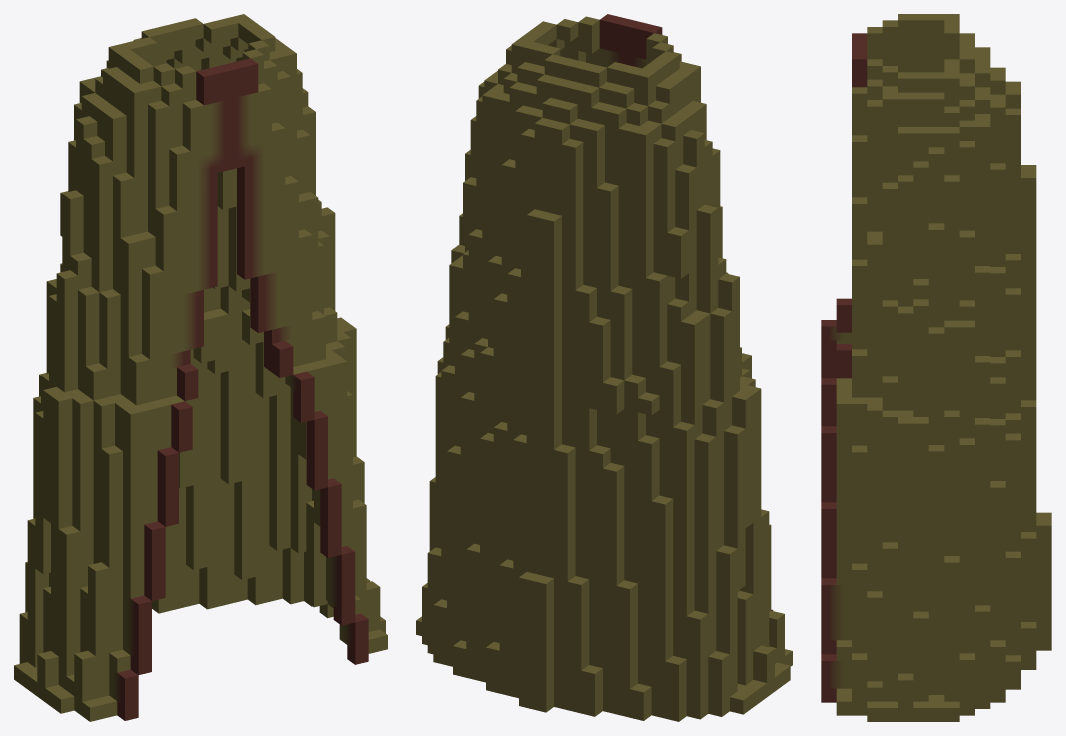
File: NB_TR_F_SkirtFullOuter_00.fbx
3 views of the same model, side by side, from view 1: azimuth 30°, elevation 25°; view 2: azimuth 150°, elevation 25°; view 3: azimuth 270°, elevation 25° (orthographic). The views are drawn at different scales.
Visible parts, largest first — view 1: DressSkirtFull_Outer; view 2: DressSkirtFull_Outer; view 3: DressSkirtFull_Outer.
Part boxes in pixels (box(x1,y1,x2,y2)): DressSkirtFull_Outer: box(14, 14, 387, 721); DressSkirtFull_Outer: box(416, 14, 792, 721); DressSkirtFull_Outer: box(821, 14, 1051, 721).
Size of the model in its own units: 24 by 43 by 15.
1 material, 1 textured.
